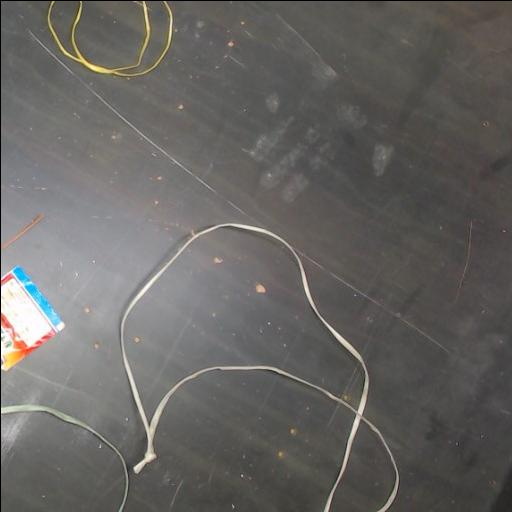conveyor belt: (1, 1, 512, 512), (126, 229, 362, 418), (124, 372, 354, 512), (1, 415, 123, 512), (331, 422, 394, 512), (75, 1, 145, 67), (142, 1, 166, 64), (53, 1, 75, 47)
packet: (1, 266, 64, 369)
thread: (120, 222, 399, 512), (1, 403, 128, 512), (46, 1, 173, 78), (1, 214, 42, 249)
